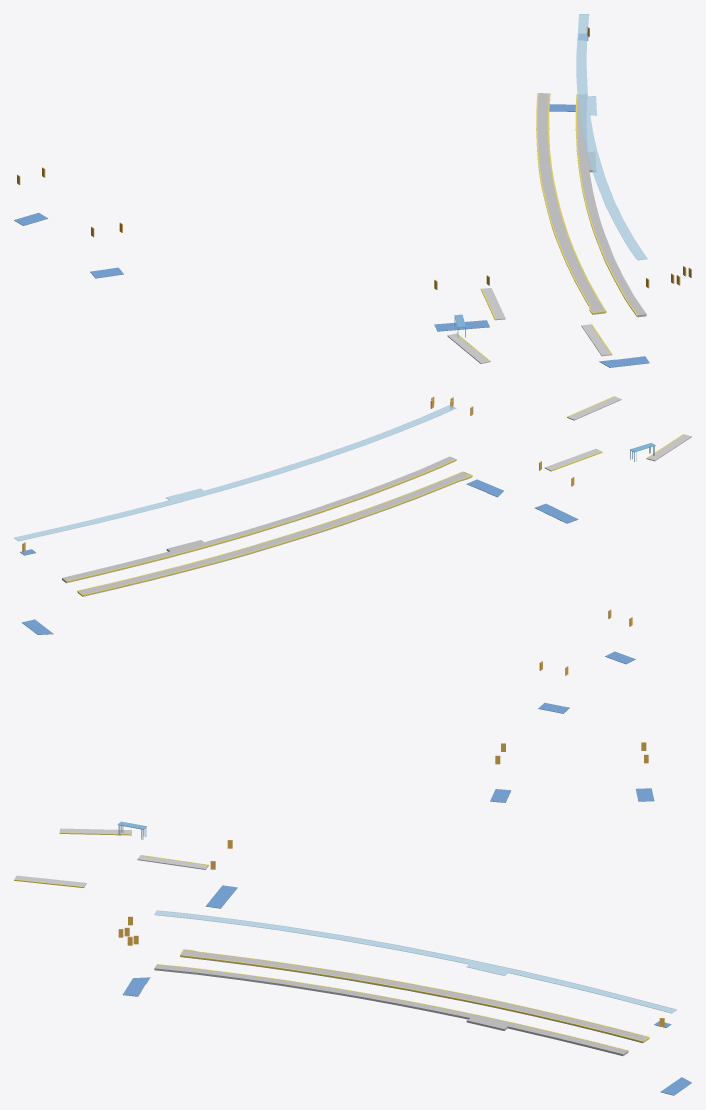
File: 8508051-bern-felsenau.glb
3 views of the same model, one above another, from view 1: azimuth 30°, elevation 25°; view 2: azimuth 150°, elevation 25°; view 3: azimuth 270°, elevation 25° (orthographic). The views are drawn at different scales.
Parts seen in each view (by area): view 1: platform_surface@-1, roof@0, boarding_edge@-1, platform_body@0, passage@-1, passage@-3; view 2: platform_surface@-1, roof@0, boarding_edge@-1, platform_body@0, passage@-1, passage@-3; view 3: platform_surface@-1, roof@0, boarding_edge@-1, platform_body@0, passage@-1, access_point@0, passage@-3.
Part boxes in pixels (<box>): platform_surface@-1: <box>537,93,646,317</box>; roof@0: <box>576,14,647,260</box>; boarding_edge@-1: <box>536,93,637,316</box>; platform_body@0: <box>447,288,610,363</box>; passage@-1: <box>14,212,489,331</box>; passage@-3: <box>549,104,649,367</box>; platform_surface@-1: <box>62,456,471,596</box>; roof@0: <box>14,405,456,541</box>; boarding_edge@-1: <box>66,459,472,595</box>; platform_body@0: <box>544,396,691,470</box>; passage@-1: <box>535,503,635,713</box>; passage@-3: <box>21,479,503,634</box>; platform_surface@-1: <box>154,950,648,1055</box>; roof@0: <box>154,910,676,1013</box>; boarding_edge@-1: <box>157,949,649,1051</box>; platform_body@0: <box>14,828,208,887</box>; passage@-1: <box>205,788,654,908</box>; access_point@0: <box>118,742,664,1026</box>; passage@-3: <box>122,977,691,1095</box>.
Size of the model in its own units: 165 by 24.02 by 169.
